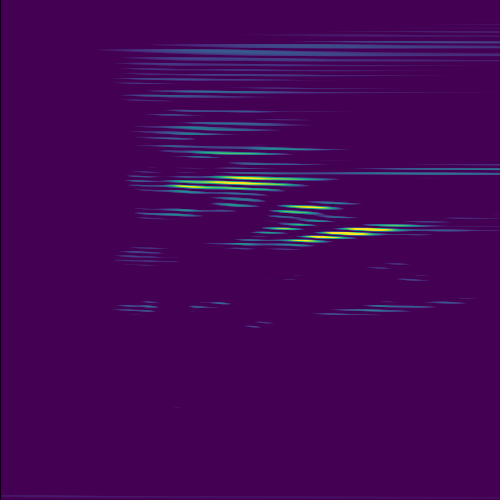semblance: (282, 220, 426, 248), (254, 195, 355, 232), (160, 172, 326, 191)
